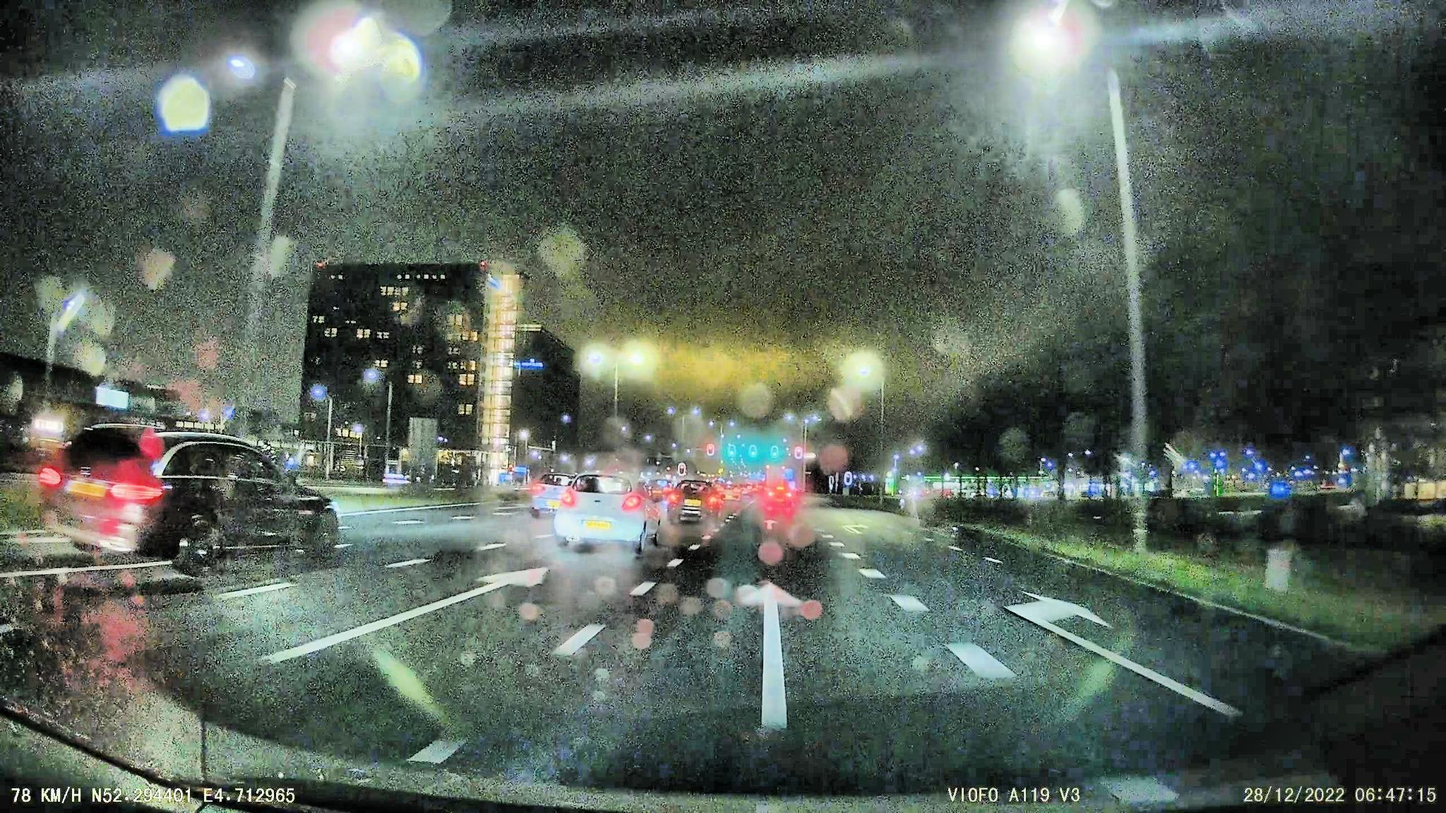Roads: (154, 509, 1207, 813)
